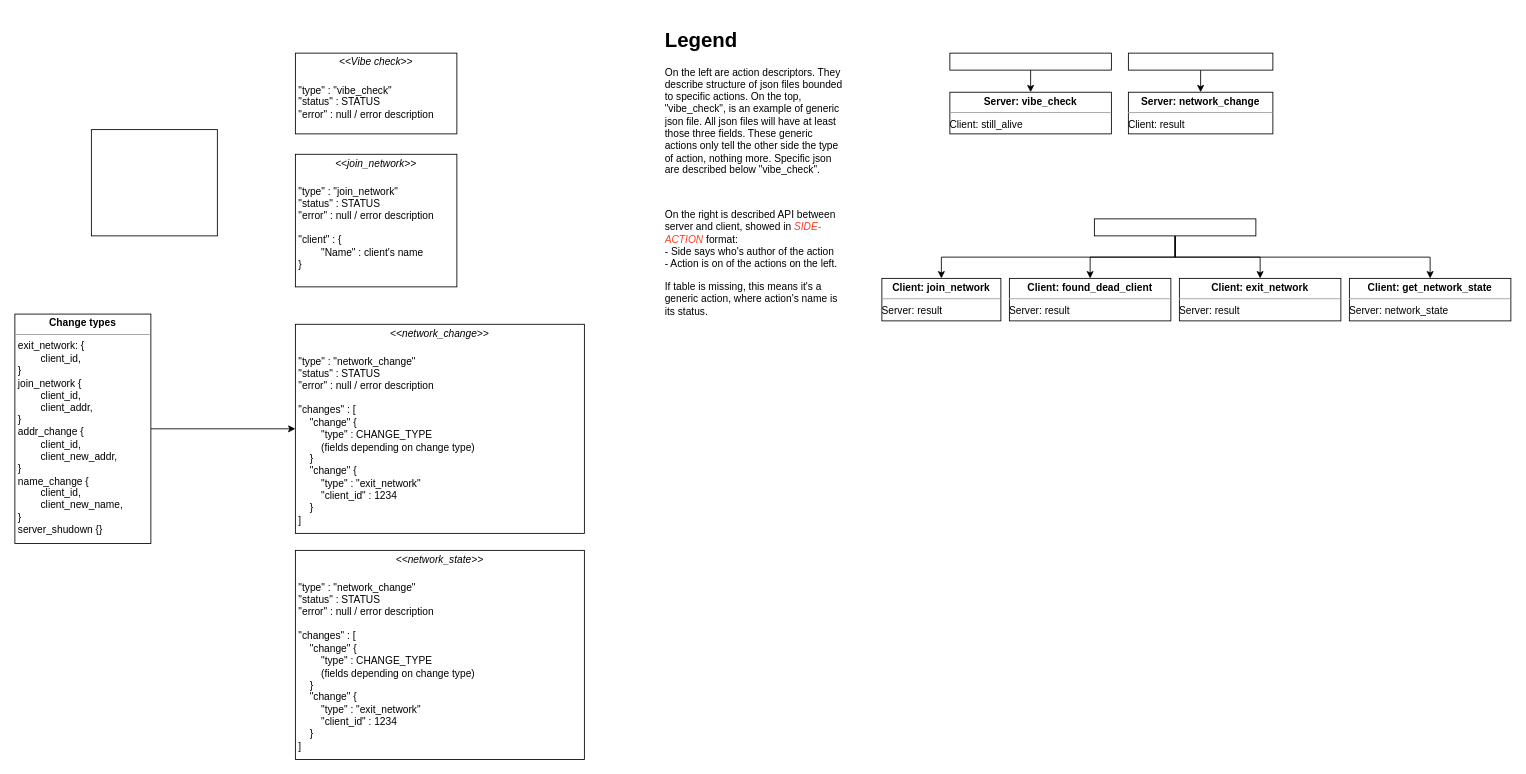
Image size: 1526x774. Some labels were removed from this diagram. Here are the shapes that lost their labels. From the top down, the box of each, then its label:
(949, 52, 1111, 70): <<checking if client is dead>>
(1128, 52, 1273, 70): <<client updates>>
(91, 129, 217, 236): STATUS OK ERROR SERVER_ERROR WRONG_CLIENT_INPUT UNKNOWN_CLIENT
(1094, 218, 1256, 236): <<client requests>>
